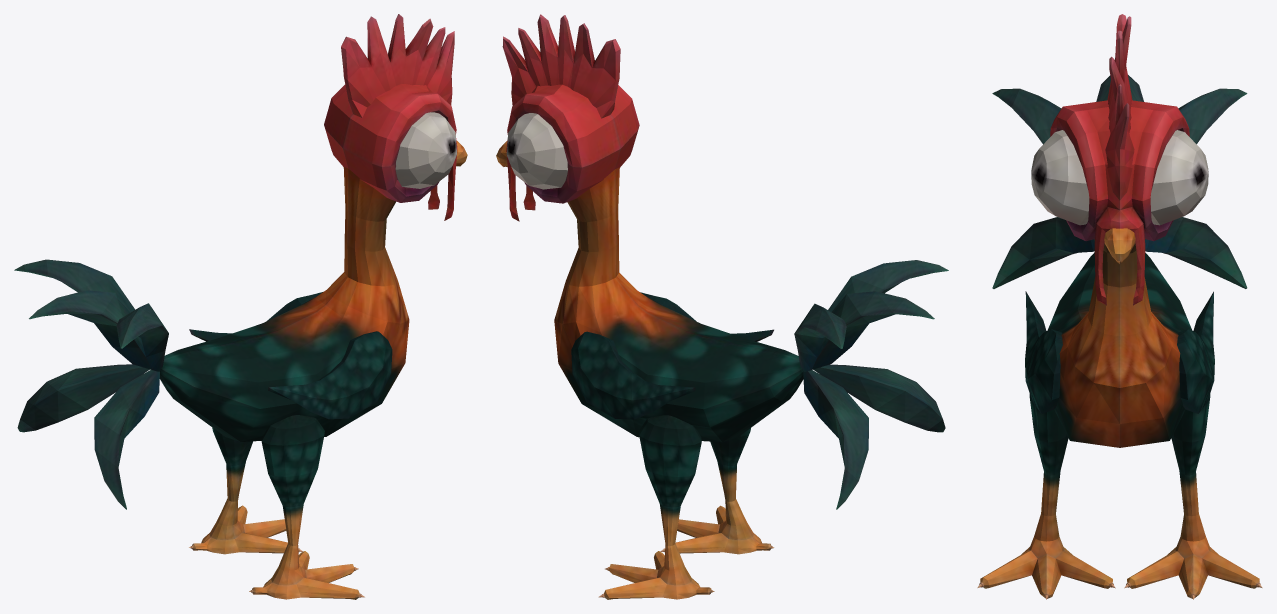
File: PPLNEPRLR1BO38LCTJ5P0FYYJ.gltf
3 renders of one model, left to right at view 1: azimuth 30°, elevation 25°; view 2: azimuth 150°, elevation 25°; view 3: azimuth 270°, elevation 25°, orthographic. The views are drawn at different scales.
Size of the model in its own units: 2.2 by 2.5 by 1.05.
1 material, 1 textured.
